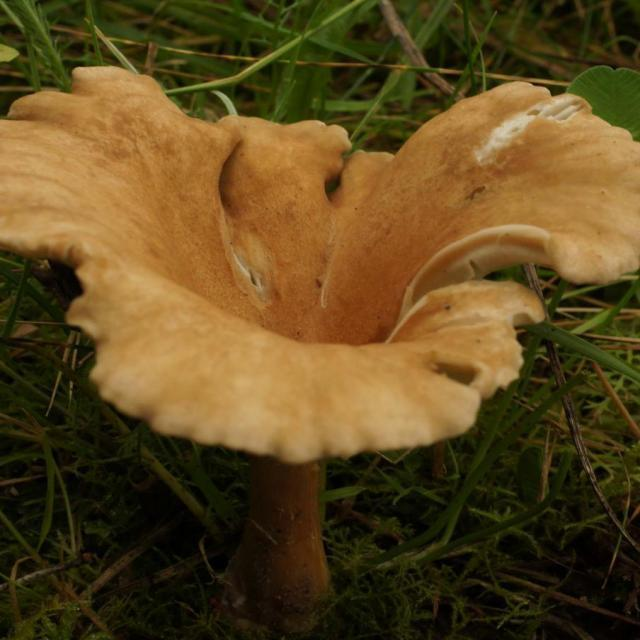Clitocybe maxima: (0, 62, 636, 598)
